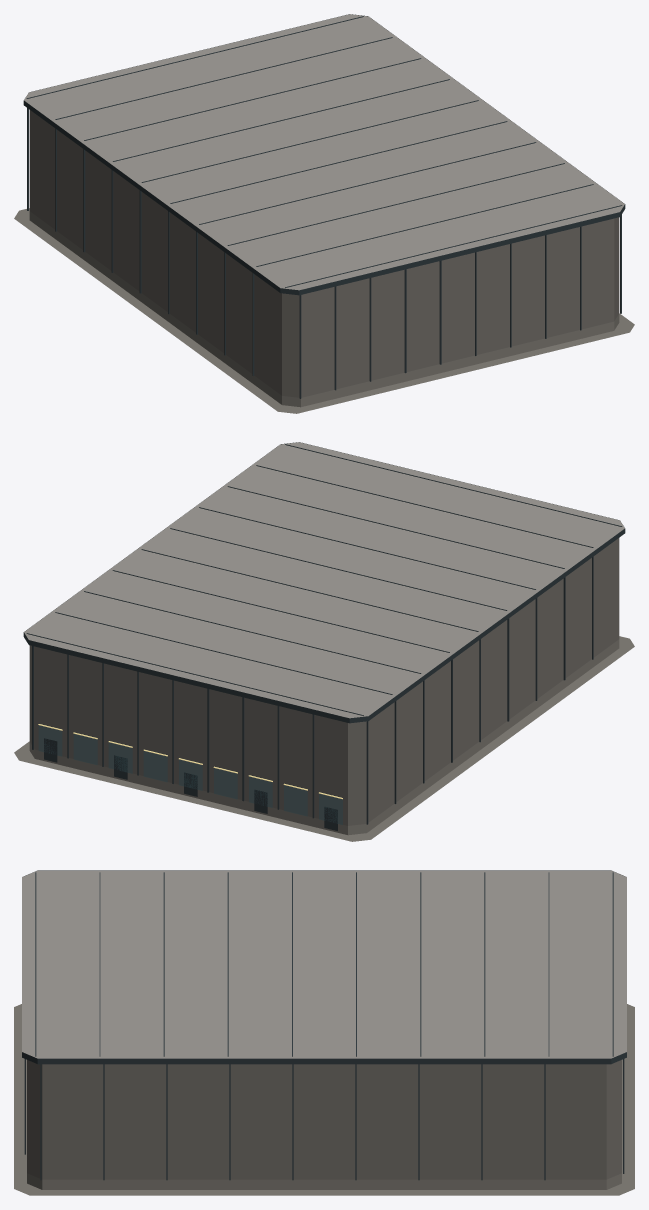
File: shell.glb
3 renders of one model, top to bottom at view 1: azimuth 30°, elevation 25°; view 2: azimuth 150°, elevation 25°; view 3: azimuth 270°, elevation 25°, orthographic. The views are drawn at different scales.
Visible parts, largest first — view 1: shell_roof_canopy, shell_bowl_mass_cladding, shell_roof_canopy_fascia, shell_bowl_mass_plinth, shell_field_floor_apron, shell_bowl_mass_facade_panels; view 2: shell_roof_canopy, shell_bowl_mass_cladding, shell_roof_canopy_fascia, shell_bowl_mass_suite_glass_lobby, shell_bowl_mass_plinth, shell_field_floor_apron, shell_bowl_mass_facade_panels, shell_bowl_mass_portal_frames; view 3: shell_roof_canopy, shell_bowl_mass_cladding, shell_roof_canopy_fascia, shell_field_floor_apron, shell_bowl_mass_plinth, shell_bowl_mass_facade_panels.
Part boxes in pixels (x1,y1,x2,y2): shell_roof_canopy: (24,14,624,290); shell_bowl_mass_cladding: (29,110,619,397); shell_roof_canopy_fascia: (23,14,625,295); shell_bowl_mass_plinth: (29,211,619,407); shell_field_floor_apron: (14,208,634,413); shell_bowl_mass_facade_panels: (27,108,621,398); shell_roof_canopy: (24,442,624,718); shell_bowl_mass_cladding: (29,538,619,825); shell_roof_canopy_fascia: (23,442,625,723); shell_bowl_mass_suite_glass_lobby: (38,725,342,824); shell_bowl_mass_plinth: (29,639,619,835); shell_field_floor_apron: (14,636,634,841); shell_bowl_mass_facade_panels: (32,556,593,824); shell_bowl_mass_portal_frames: (44,738,337,830); shell_roof_canopy: (22,870,626,1058); shell_bowl_mass_cladding: (27,1060,621,1179); shell_roof_canopy_fascia: (22,870,626,1064); shell_field_floor_apron: (14,1004,634,1195); shell_bowl_mass_plinth: (27,1173,621,1189); shell_bowl_mass_facade_panels: (24,1059,624,1180).
Size of the model in its own units: 47.6 by 15.28 by 64.1.
